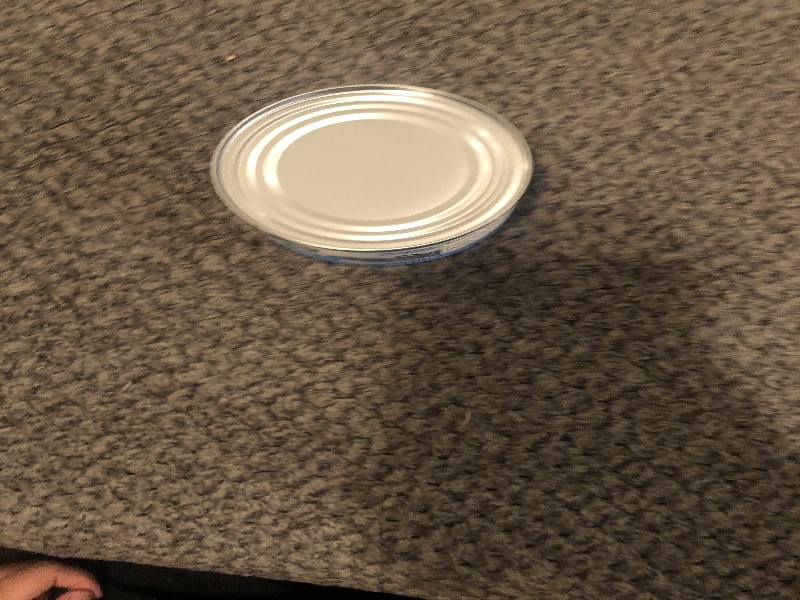metal: (204, 79, 538, 273)
